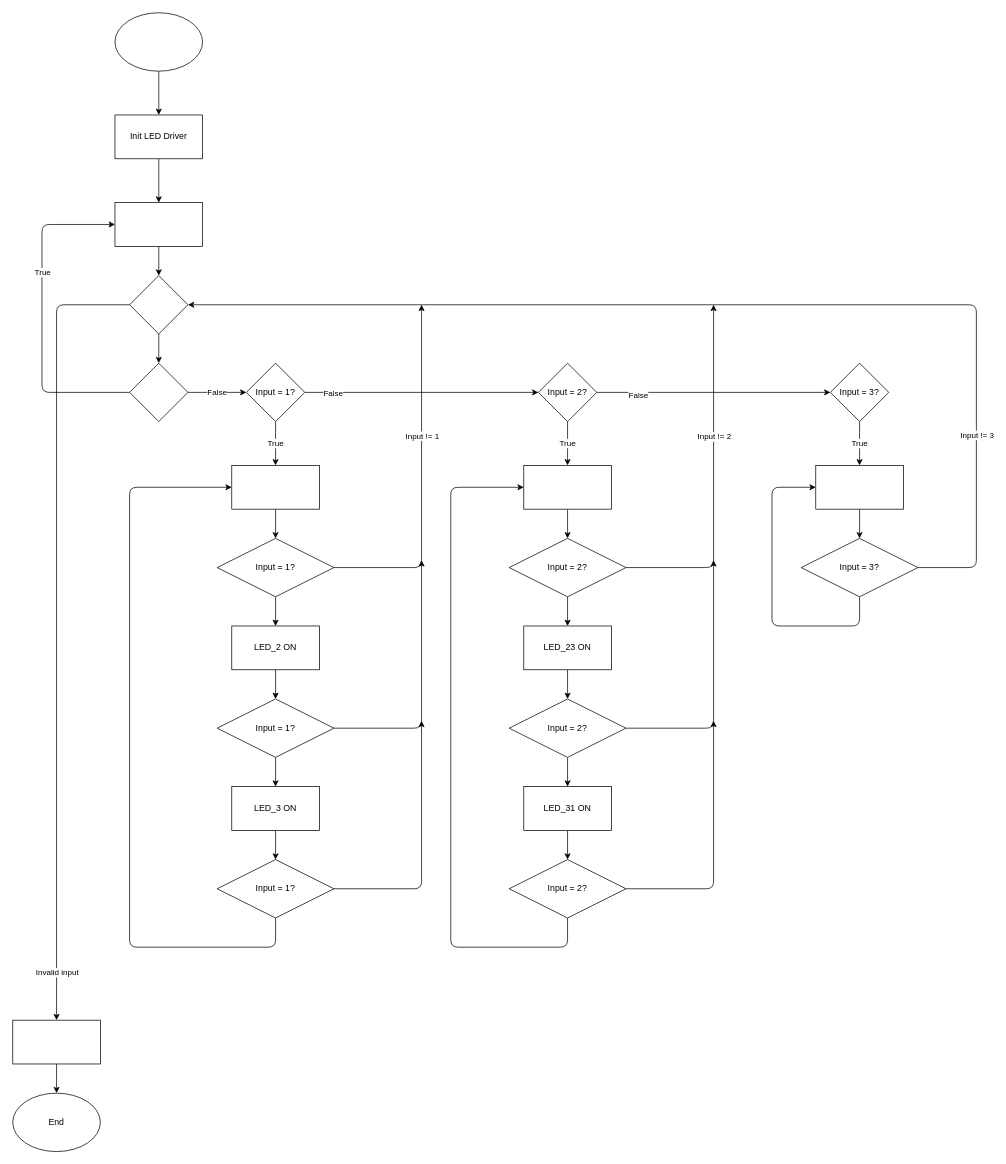
The diagram is 1006 pixels wide and 1164 high, and some of its shapes have lost their labels. The centre of each missing label's shape, as x and y in pixels:
"Input = 0?" goes at point 158,392.
"Read Input" goes at point 158,224.
"Return Error" goes at point 56,1041.
"Start" goes at point 158,41.
"State = 1; LED_1 ON" goes at point 275,487.
"State = 2; LED_12 ON" goes at point 567,487.
"State = 3; LED_123 ON" goes at point 859,487.
"Valid input?" goes at point 158,304.
